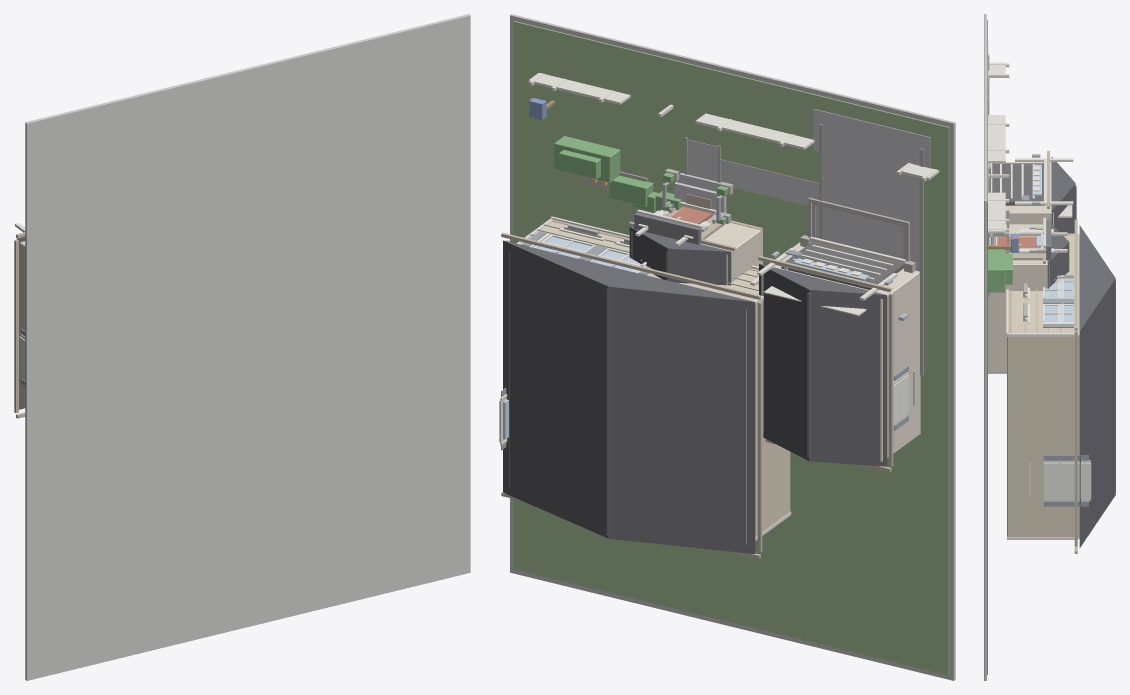
The model's file is personalhouse_splitlevel.fbx.
3 renders of one model, left to right at view 1: azimuth 30°, elevation 25°; view 2: azimuth 150°, elevation 25°; view 3: azimuth 270°, elevation 25°, orthographic. The views are drawn at different scales.
Visible parts, largest first — view 1: GroundBase, RoofOverhangTrim_GarageLeft, LowerGarageBlock; view 2: YardGrass, Roof_Dark_Main, Roof_Dark_Garage, GroundBase, Driveway_Left, MainBlock_Raised, LowerGarageBlock, DrivewayApron_Left, Roof_Dark_Entry, Walkway_Join, GarageDoor_VISIBLE_Apron, FrontEntryBlock (+15 smaller); view 3: MainBlock_Raised, Roof_Dark_Main, FrontEntryBlock, GroundBase, GarageDoor_VISIBLE_Main, Roof_Dark_Garage, SideWindow_Right_Lower_FrameOuter, LowerGarageBlock, RoofOverhangTrim_MainRight, FrontFence_MidSection, Roof_Dark_Entry, Shrubs_Cluster_Main (+12 smaller).
Boxes of the visible parts, <box> form: GroundBase: <box>25,14,470,680</box>; RoofOverhangTrim_GarageLeft: <box>14,239,18,413</box>; LowerGarageBlock: <box>20,241,25,407</box>; YardGrass: <box>513,21,949,675</box>; Roof_Dark_Main: <box>503,240,755,553</box>; Roof_Dark_Garage: <box>759,264,887,466</box>; GroundBase: <box>510,14,955,680</box>; Driveway_Left: <box>823,127,919,271</box>; MainBlock_Raised: <box>509,221,790,544</box>; LowerGarageBlock: <box>761,242,920,461</box>; DrivewayApron_Left: <box>813,109,930,170</box>; Roof_Dark_Entry: <box>629,227,731,285</box>; Walkway_Join: <box>687,151,818,205</box>; GarageDoor_VISIBLE_Apron: <box>812,204,903,258</box>; FrontEntryBlock: <box>631,210,762,285</box>; MainBlock_Raised: <box>1007,234,1079,538</box>; Roof_Dark_Main: <box>1079,225,1115,547</box>; FrontEntryBlock: <box>988,224,1049,372</box>; GroundBase: <box>984,14,986,680</box>; GarageDoor_VISIBLE_Main: <box>992,163,1044,205</box>; Roof_Dark_Garage: <box>1051,157,1075,233</box>; SideWindow_Right_Lower_FrameOuter: <box>1043,462,1072,498</box>; LowerGarageBlock: <box>995,162,1053,225</box>; RoofOverhangTrim_MainRight: <box>1074,330,1077,546</box>; FrontFence_MidSection: <box>988,115,1005,162</box>; Roof_Dark_Entry: <box>1047,224,1069,288</box>; Shrubs_Cluster_Main: <box>988,249,1005,292</box>.
Bounding box in the file's own units: 1500 × 1800 × 448.
